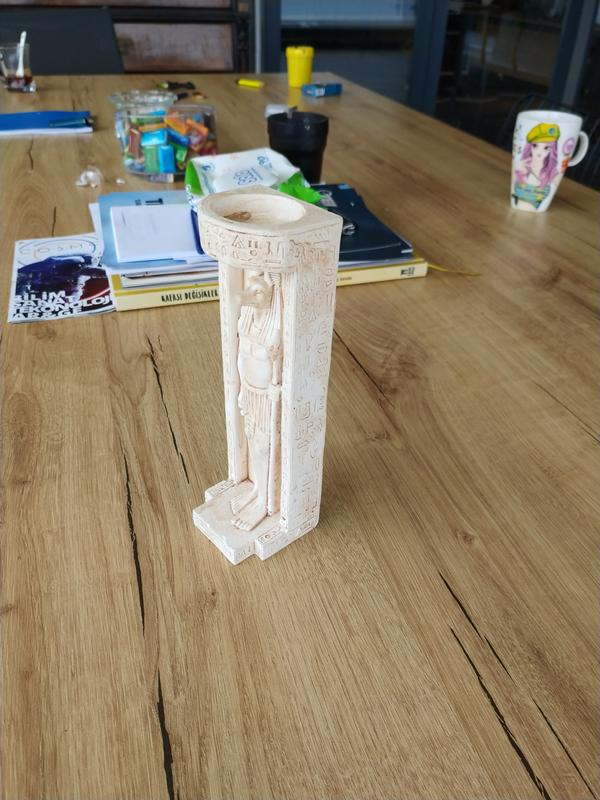heykel: (188, 187, 347, 568)
